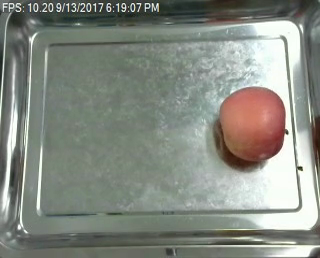Apple: (214, 87, 290, 164)
